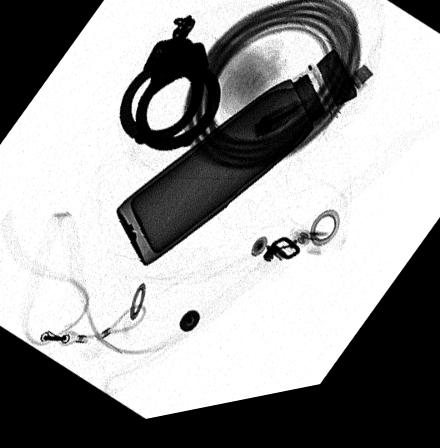HandCuffs: (119, 21, 221, 157)
